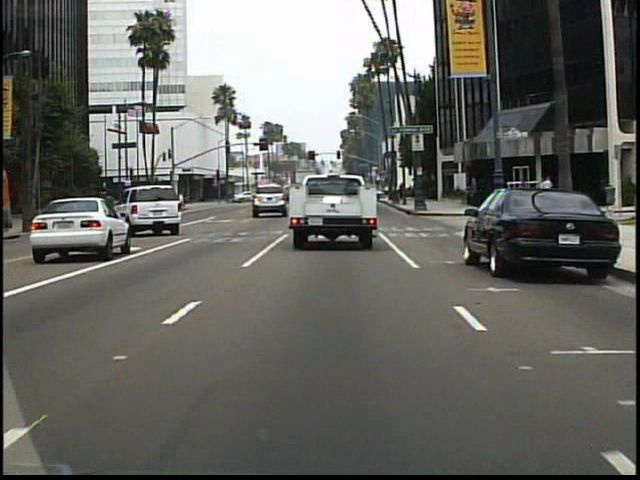person: (540, 175, 557, 213)
